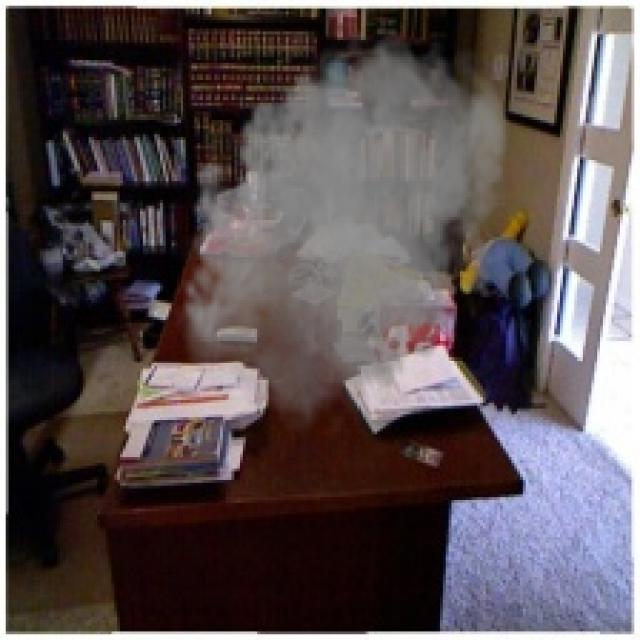smoke: (172, 23, 514, 446)
